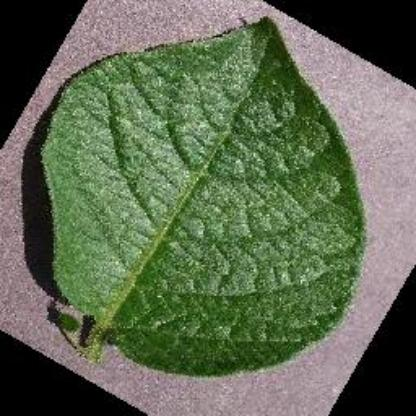Healthy-plant: (47, 16, 370, 376)
